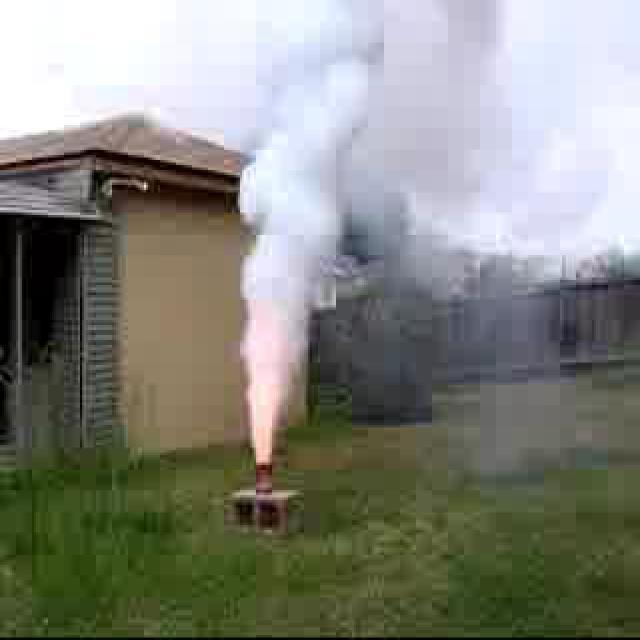Smoke: (244, 134, 314, 445)
